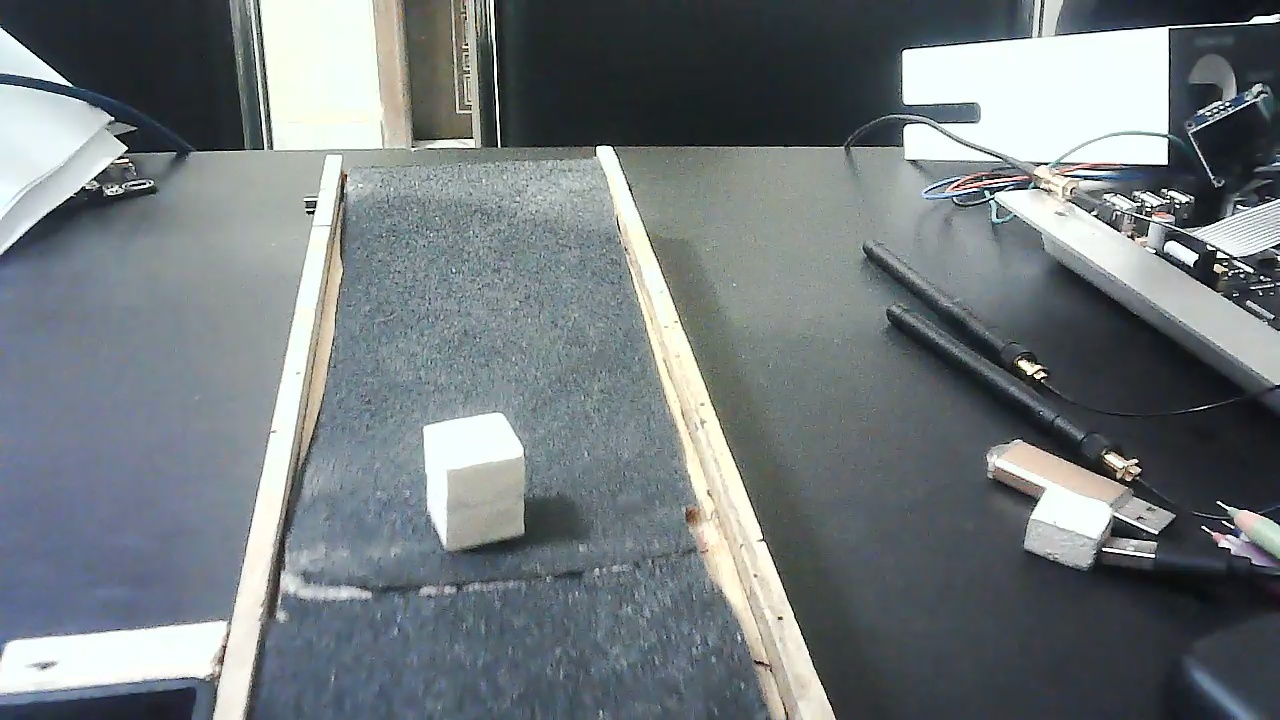Small: (408, 412, 545, 549)
